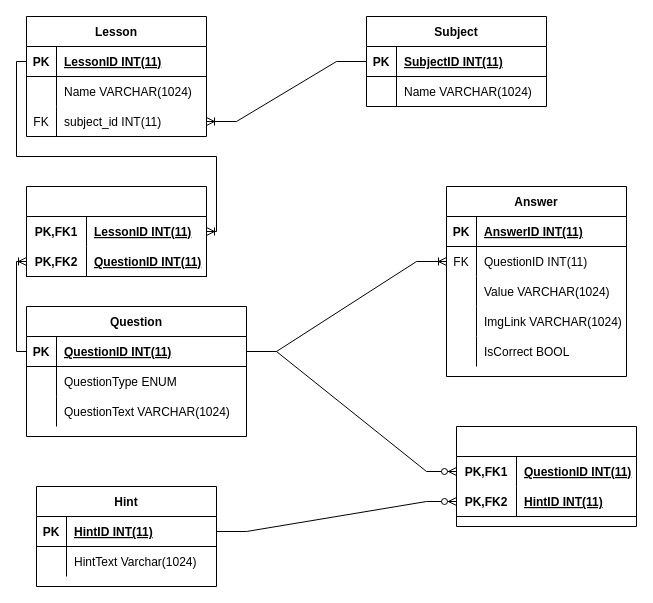
The diagram is 653 pixels wide and 603 high, and some of its shapes have lost their labels. Here are the shapes that lost their labels. From the top down, the box of each, then its label:
(26, 186, 206, 276): Lesson_Questions
(456, 426, 636, 526): Question_Hints
